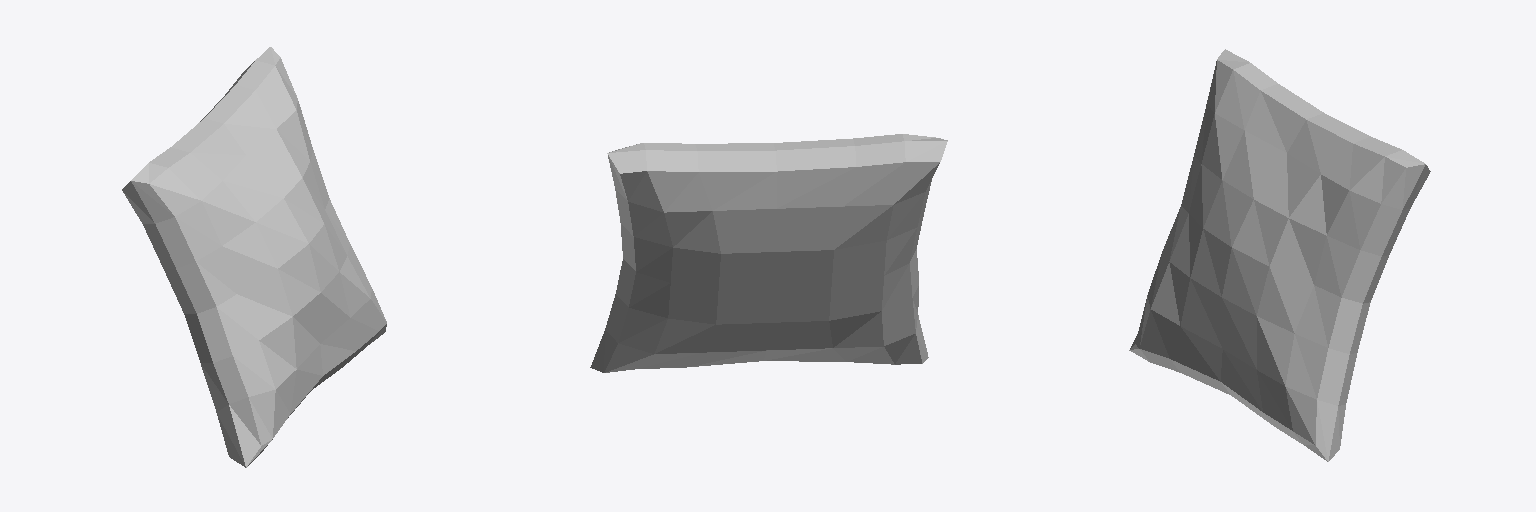
Rendered from Kussen_klein_Fixed.obj.
The picture shows the model from 3 angles: view 1: azimuth 30°, elevation 25°; view 2: azimuth 150°, elevation 25°; view 3: azimuth 270°, elevation 25°; orthographic projection.
Parts seen in each view (by area): view 1: Kussen_los_5; view 2: Kussen_los_5; view 3: Kussen_los_5.
Part boxes in pixels (bbox=[...]): Kussen_los_5: bbox=[122, 47, 386, 467]; Kussen_los_5: bbox=[590, 134, 947, 372]; Kussen_los_5: bbox=[1129, 49, 1430, 461].
Size of the model in its own units: 9.76 by 8.27 by 8.31.